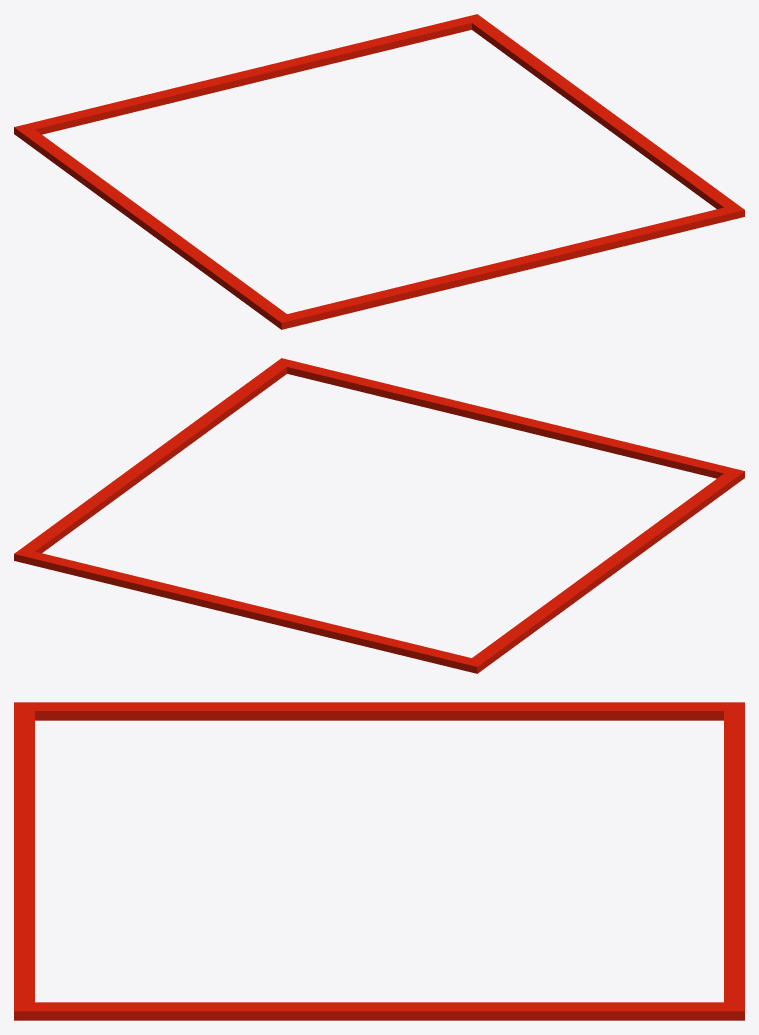
Rendered from Cuadroseleccion.glb.
The picture shows the model from 3 angles, top to bottom: view 1: azimuth 30°, elevation 25°; view 2: azimuth 150°, elevation 25°; view 3: azimuth 270°, elevation 25°; orthographic projection. The views are drawn at different scales.
Parts seen in each view (by area): view 1: Plane; view 2: Plane; view 3: Plane.
Part boxes in pixels (<box>): Plane: <box>14,14,744,329</box>; Plane: <box>14,358,744,673</box>; Plane: <box>14,702,744,1020</box>.
Bounding box in the file's own units: 0.35 × 0.005 × 0.35.
